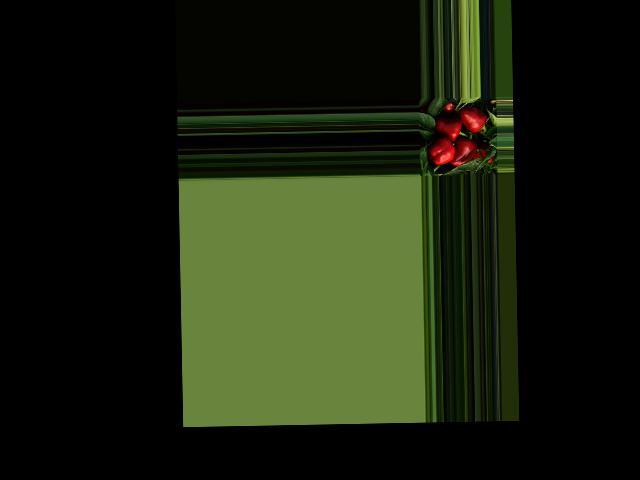bell_pepper: (428, 130, 455, 167)
